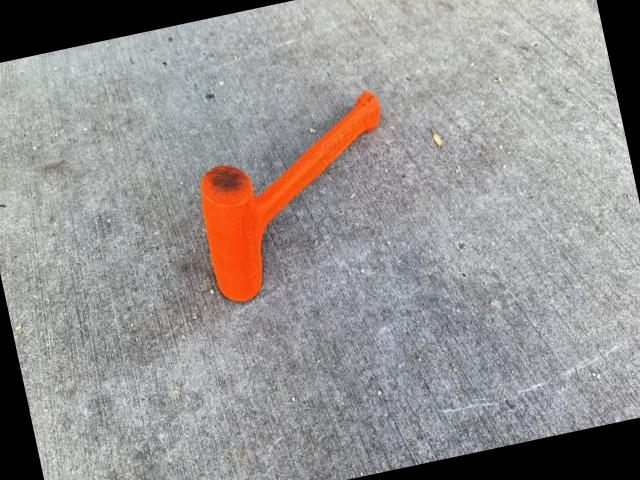hammer: (180, 84, 414, 309)
